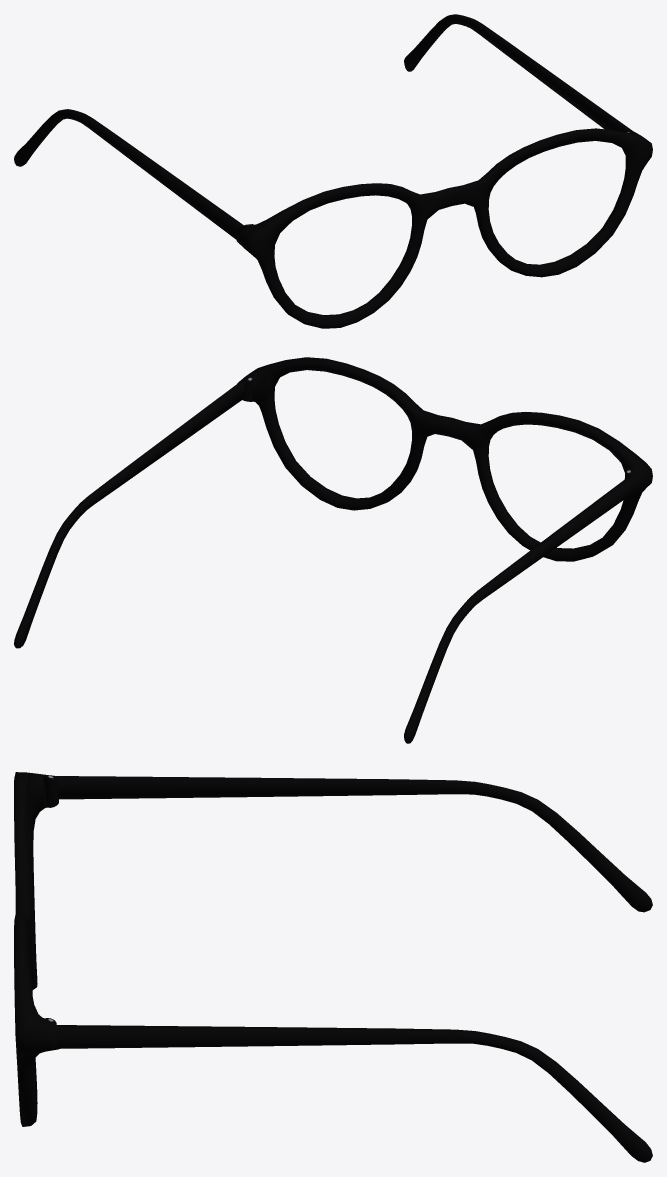
Rendered from glasses.gltf.
3 renders of one model, top to bottom at view 1: azimuth 30°, elevation 25°; view 2: azimuth 150°, elevation 25°; view 3: azimuth 270°, elevation 25°, orthographic. The views are drawn at different scales.
Parts seen in each view (by area): view 1: glasses; view 2: glasses; view 3: glasses.
Part boxes in pixels (left/top/right/bottom): glasses: left=14, top=14, right=652, bottom=328; glasses: left=14, top=357, right=652, bottom=743; glasses: left=14, top=772, right=652, bottom=1162.
Size of the model in its own units: 0.4966 by 0.1666 by 0.5193.
1 material, 1 textured.
